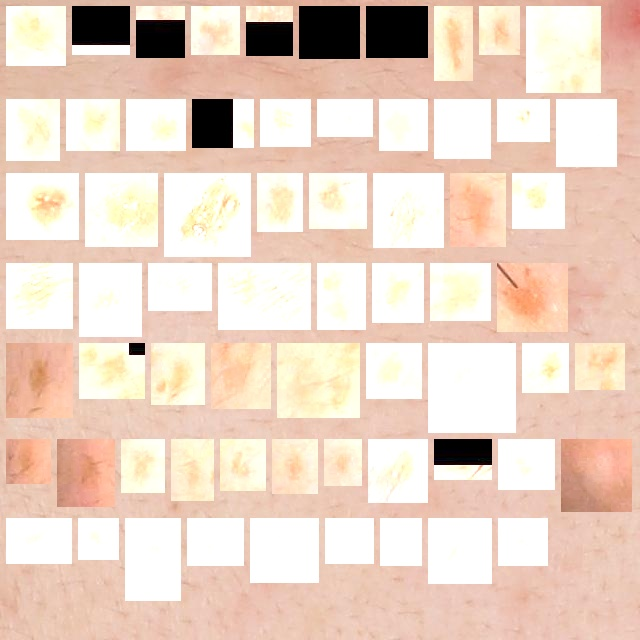hypertrophic_scar: (569, 447, 624, 504)
melasma: (436, 351, 508, 425), (172, 181, 243, 249), (534, 14, 593, 85), (285, 351, 352, 410), (226, 271, 303, 322), (93, 181, 150, 239), (381, 181, 436, 240), (14, 351, 65, 410), (505, 271, 560, 324), (14, 181, 71, 232), (87, 271, 134, 329), (133, 526, 173, 593), (258, 526, 311, 575), (14, 271, 65, 321), (436, 526, 484, 576), (564, 107, 609, 159), (458, 181, 498, 239), (219, 351, 263, 401), (65, 447, 107, 499), (376, 447, 420, 495), (87, 351, 137, 391), (14, 14, 58, 58), (438, 271, 483, 313), (442, 107, 483, 151), (14, 107, 52, 153), (159, 351, 197, 397), (325, 271, 358, 322), (317, 181, 359, 221), (307, 14, 352, 51), (374, 14, 420, 50), (374, 351, 414, 391), (134, 107, 178, 143), (380, 271, 416, 315), (156, 271, 204, 303), (200, 107, 246, 140), (14, 526, 64, 556), (520, 181, 557, 221), (506, 447, 547, 482), (80, 14, 122, 47), (74, 107, 112, 143), (442, 14, 465, 73), (195, 526, 236, 558), (265, 181, 295, 224), (179, 447, 206, 493), (144, 14, 177, 50), (387, 107, 420, 143), (280, 447, 310, 486), (268, 107, 303, 139), (199, 14, 232, 47), (506, 526, 540, 558), (228, 447, 258, 483), (129, 447, 157, 485), (254, 14, 285, 48), (530, 351, 561, 385), (583, 351, 617, 382), (442, 447, 484, 472), (505, 107, 542, 134), (333, 526, 366, 556), (325, 107, 365, 129), (14, 447, 43, 476), (388, 526, 414, 558), (487, 14, 512, 47), (332, 447, 354, 478), (86, 526, 111, 552)
